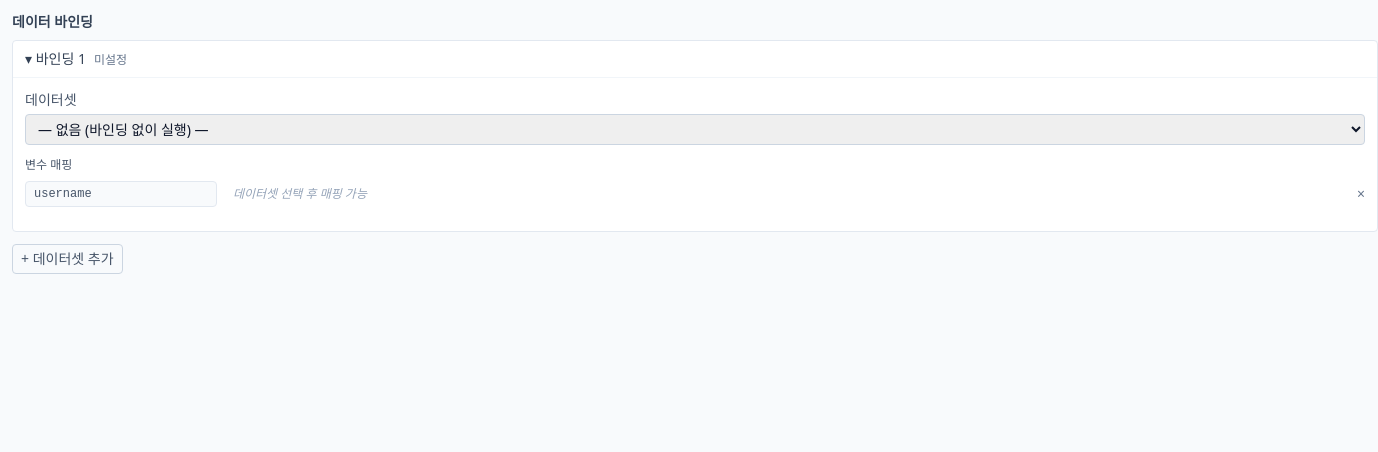
Test: DataBindingPanel › per-iteration policy shows memory warning banner; per_vu hides it
Step 1. Select "users.csv (100행)" in the dropdown labelled "데이터셋" → (695, 130), box [25,114,1365,145]
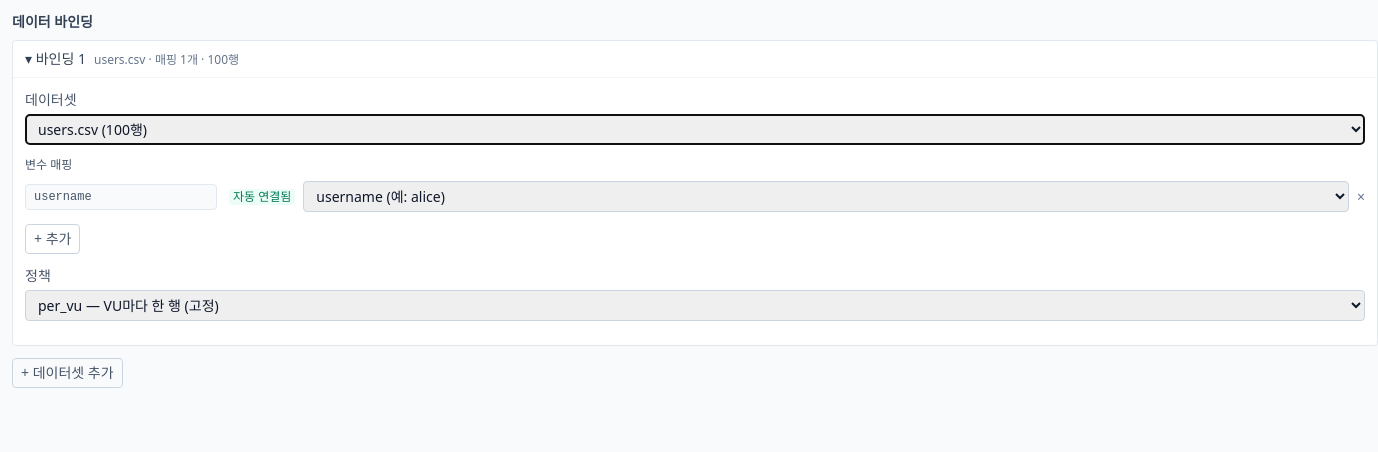
Expected: the text "dataset-max-rows" is not shown
# Switch to iter_sequential
Step 2. Select "iter_sequential — 반복마다 순차 행" in the dropdown labelled "정책" → (695, 306), box [25,290,1365,321]
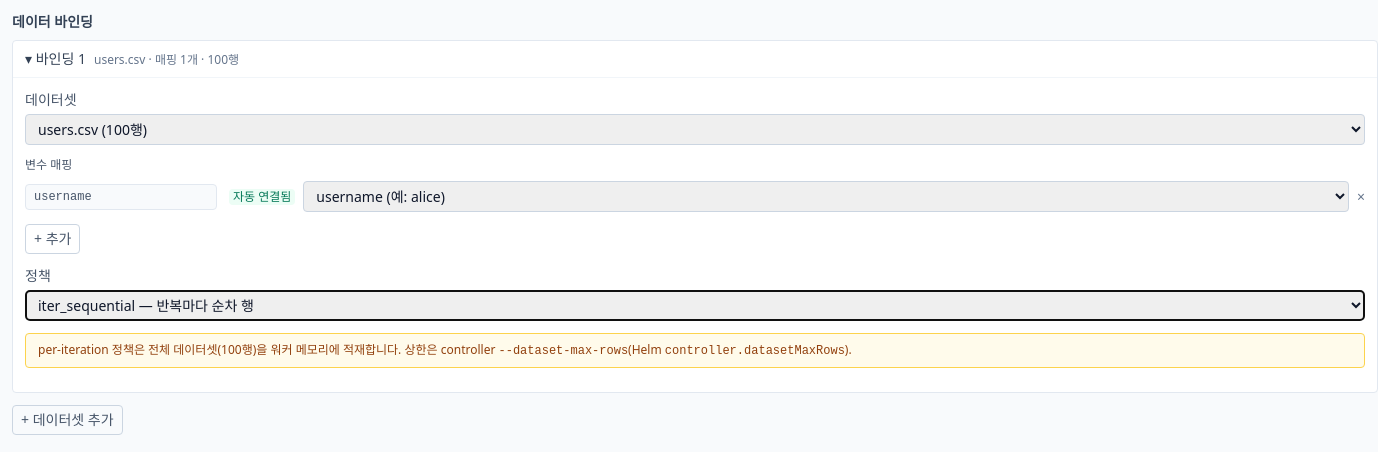
Expected: the text "--dataset-max-rows" is shown, [498,344,628,358]
# Switch to iter_random
Step 3. Select "iter_random — 반복마다 랜덤 행" in the dropdown labelled "정책" → (695, 306), box [25,290,1365,321]
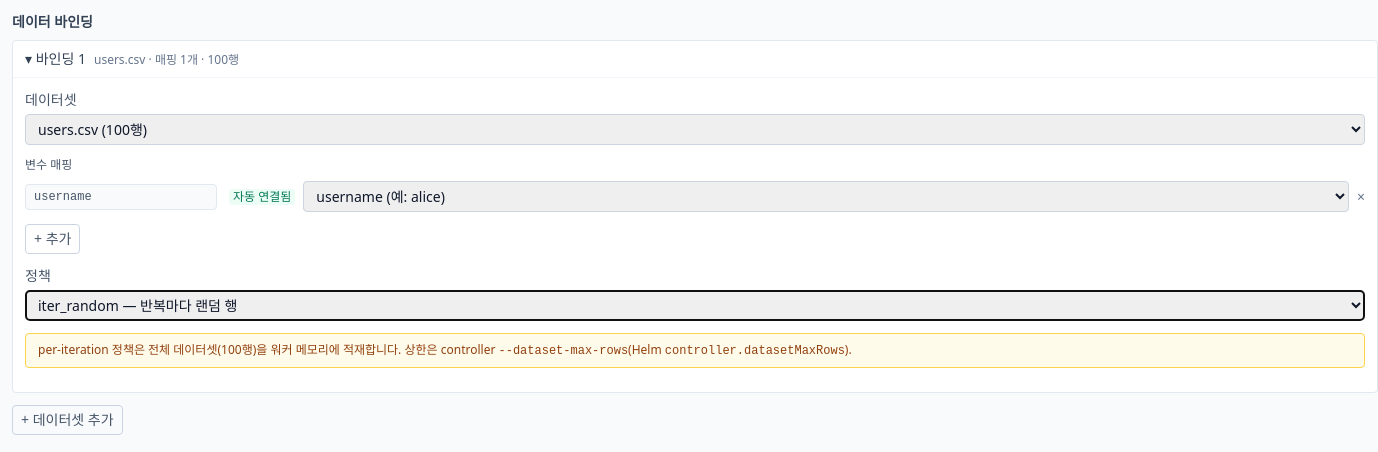
Expected: the text "--dataset-max-rows" is shown, [498,344,628,358]
# Back to per_vu
Step 4. Select "per_vu — VU마다 한 행 (고정)" in the dropdown labelled "정책" → (695, 306), box [25,290,1365,321]
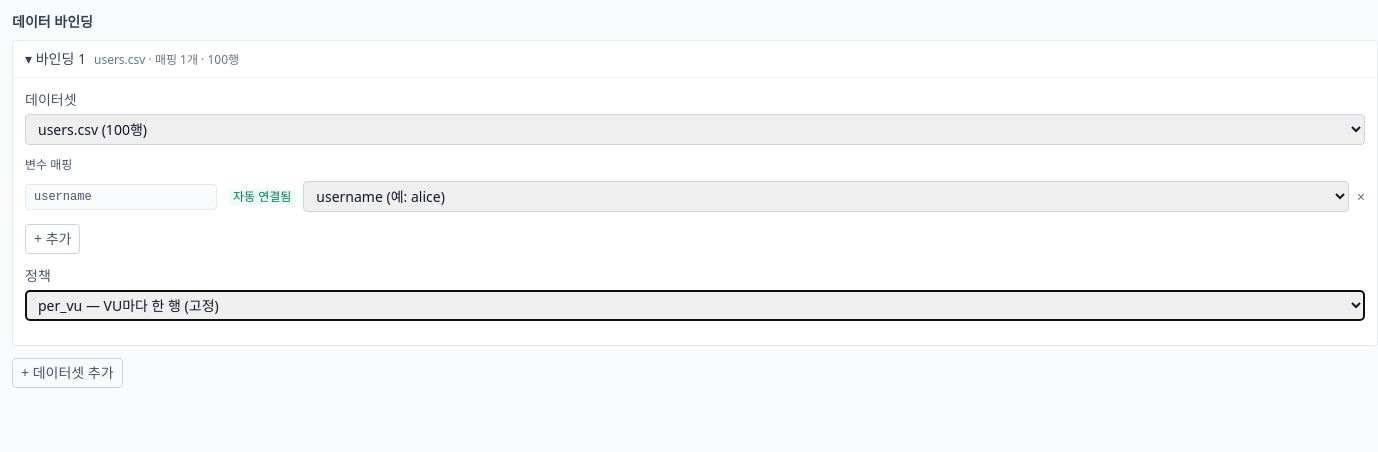
Expected: the text "dataset-max-rows" is gone
